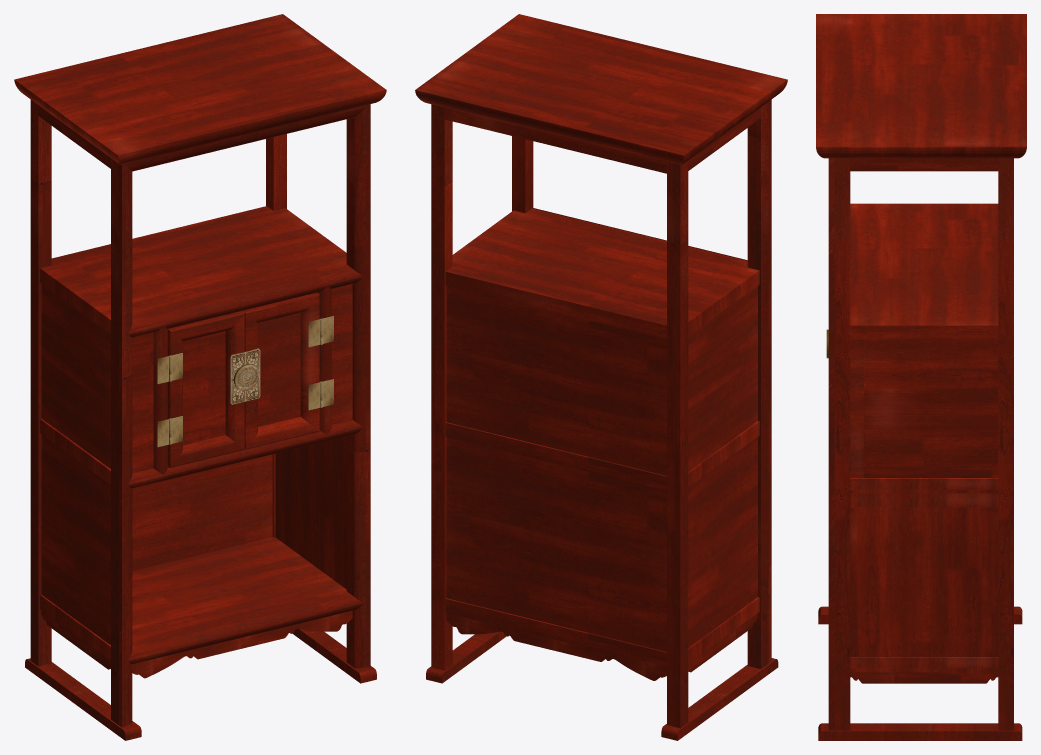
The model's file is Chiffonier_05.FBX.
The picture shows the model from 3 angles, left to right: view 1: azimuth 30°, elevation 25°; view 2: azimuth 150°, elevation 25°; view 3: azimuth 270°, elevation 25°; orthographic projection.
Parts seen in each view (by area): view 1: Chiffonier_05; view 2: Chiffonier_05; view 3: Chiffonier_05.
Part boxes in pixels (x1,y1,x2,y2): Chiffonier_05: (14,14,386,740); Chiffonier_05: (415,14,787,740); Chiffonier_05: (816,14,1026,740).
Size of the model in its own units: 61.44 by 129 by 41.12.
